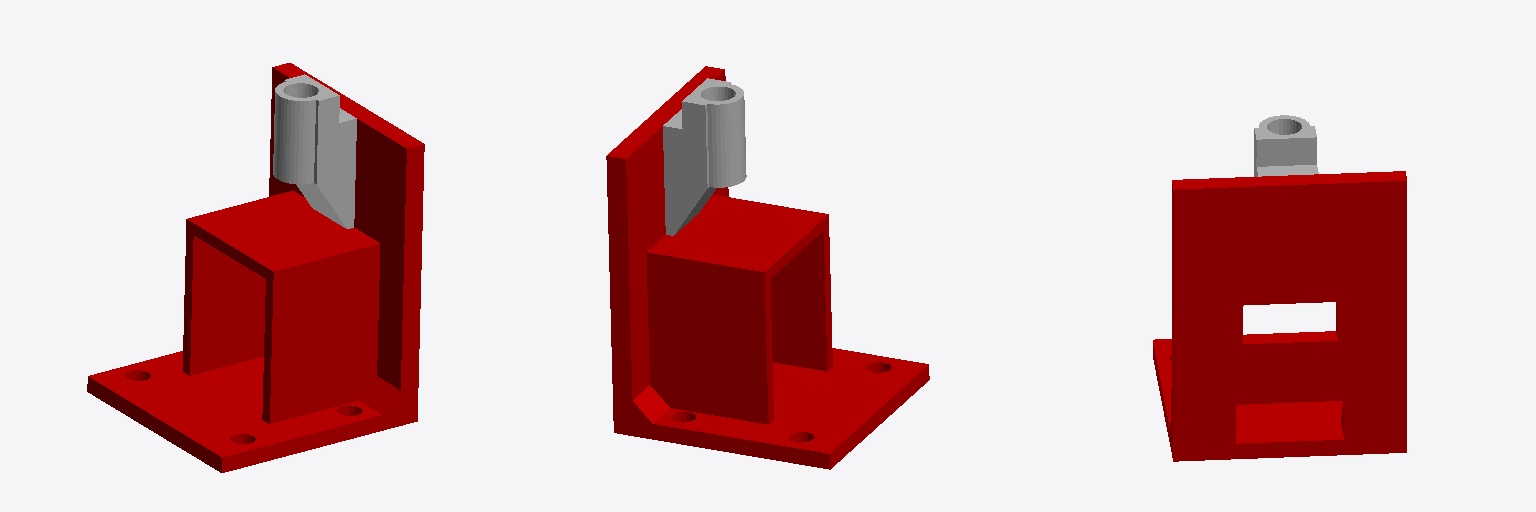
Rendered from Katownik.obj.
3 renders of one model, left to right at view 1: azimuth 30°, elevation 25°; view 2: azimuth 150°, elevation 25°; view 3: azimuth 270°, elevation 25°, orthographic.
Visible parts, largest first — view 1: Bryła1, Bryła2; view 2: Bryła1, Bryła2; view 3: Bryła1, Bryła2.
Boxes of the visible parts, x1,y1,x2,y2 form: Bryła1: [87, 63, 424, 472]; Bryła2: [273, 74, 356, 228]; Bryła1: [606, 66, 929, 469]; Bryła2: [663, 78, 746, 235]; Bryła1: [1153, 171, 1406, 461]; Bryła2: [1254, 115, 1318, 176].
Bounding box in the file's own units: 61.39 × 77.61 × 58.66.